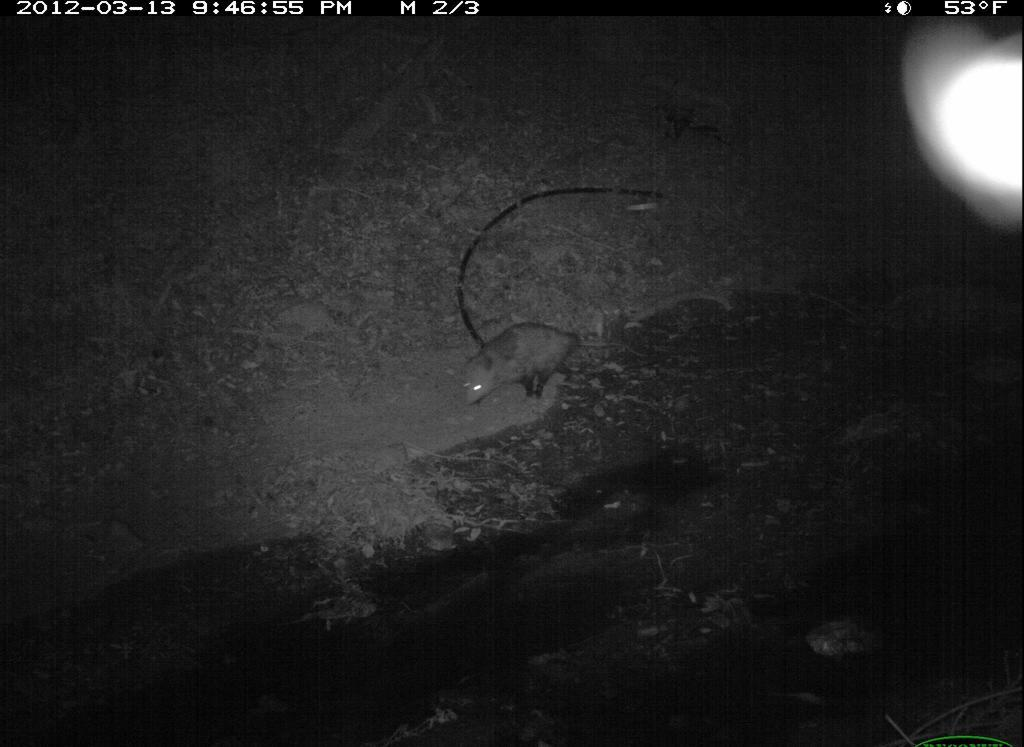opossum: (457, 306, 642, 413)
